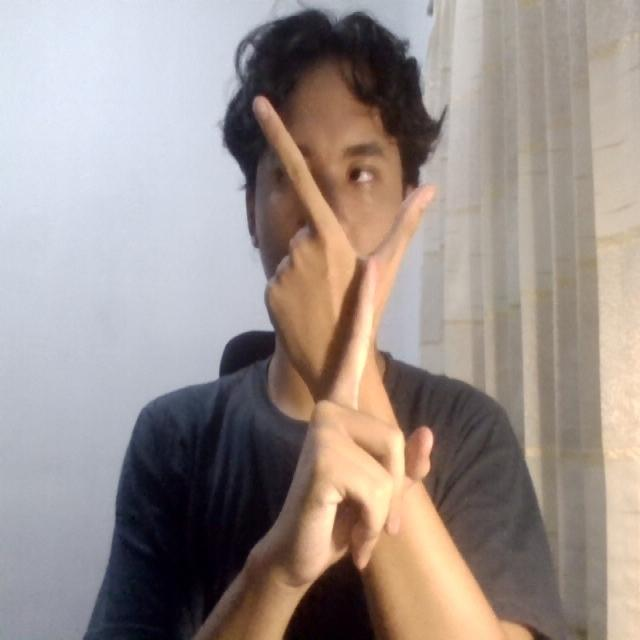No: (218, 69, 471, 599)
